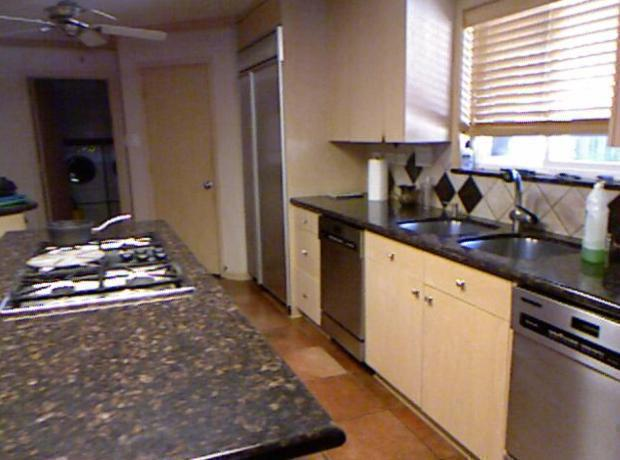Lavaplatos: (378, 167, 595, 294)
